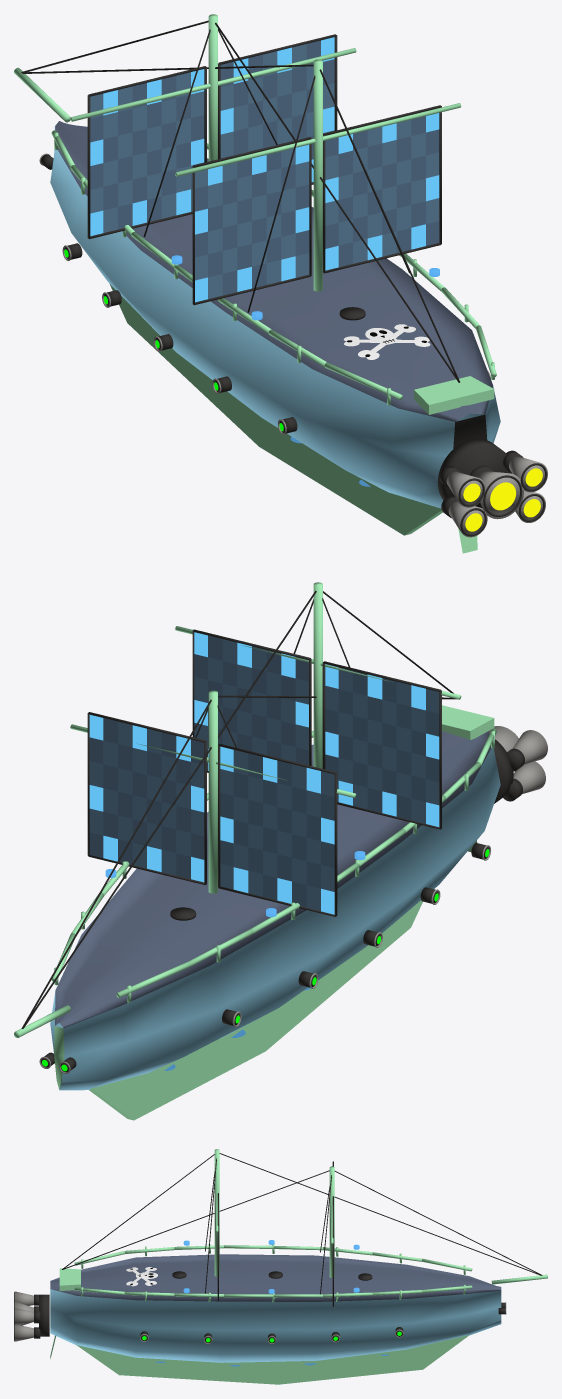
File: Ship_Pirate_6.glb
3 views of the same model, one above another, from view 1: azimuth 30°, elevation 25°; view 2: azimuth 150°, elevation 25°; view 3: azimuth 270°, elevation 25° (orthographic). The views are drawn at different scales.
Visible parts, largest first — view 1: Hull_MetalSailingShipBody, SolarPanelSail_Main_01_RigidHeritageArray, SolarPanelSail_Fore_01_RigidHeritageArray, Keel_DeepSpaceSailingKeel, Mast_Main_DarkMetalHeritageSpar, SternTransom_LowReinforcedAftDeckCap, EngineDeck_AftTransomArmoredMount, EngineEmitter, Yard_Main_01_SolarPanelCrossSpar, Yard_Fore_01_SolarPanelCrossSpar, Mast_Fore_DarkMetalHeritageSpar, EngineBell_Center_IronRocketNozzle (+4 smaller); view 2: Hull_MetalSailingShipBody, SolarPanelSail_Fore_01_RigidHeritageArray, SolarPanelSail_Main_01_RigidHeritageArray, Keel_DeepSpaceSailingKeel, Mast_Fore_DarkMetalHeritageSpar, Mast_Main_DarkMetalHeritageSpar, SternTransom_LowReinforcedAftDeckCap, RiggingStay_Main_ForwardTautLine, RiggingStay_Fore_ForwardTautLine, EngineBell_PortUpper_IronRocketNozzle, EngineBell_PortLower_IronRocketNozzle, EngineDeck_AftTransomArmoredMount; view 3: Hull_MetalSailingShipBody, Keel_DeepSpaceSailingKeel, Mast_Main_DarkMetalHeritageSpar, RiggingStay_Main_ForwardTautLine, Mast_Fore_DarkMetalHeritageSpar, SternTransom_LowReinforcedAftDeckCap, EngineDeck_AftTransomArmoredMount, RiggingStay_Fore_AftTautLine, RiggingStay_Fore_ForwardTautLine.
Part boxes in pixels (<box>): Hull_MetalSailingShipBody: <box>50,121,500,508</box>; SolarPanelSail_Main_01_RigidHeritageArray: <box>195,113,439,302</box>; SolarPanelSail_Fore_01_RigidHeritageArray: <box>90,37,334,236</box>; Keel_DeepSpaceSailingKeel: <box>109,283,442,535</box>; Mast_Main_DarkMetalHeritageSpar: <box>313,59,322,291</box>; SternTransom_LowReinforcedAftDeckCap: <box>414,376,494,414</box>; EngineDeck_AftTransomArmoredMount: <box>437,439,512,508</box>; EngineEmitter: <box>463,468,542,531</box>; Yard_Main_01_SolarPanelCrossSpar: <box>175,103,461,176</box>; Yard_Fore_01_SolarPanelCrossSpar: <box>70,48,356,121</box>; Mast_Fore_DarkMetalHeritageSpar: <box>208,14,217,161</box>; EngineBell_Center_IronRocketNozzle: <box>477,471,523,519</box>; Hull_MetalSailingShipBody: <box>50,731,500,1090</box>; SolarPanelSail_Fore_01_RigidHeritageArray: <box>89,715,334,914</box>; SolarPanelSail_Main_01_RigidHeritageArray: <box>194,632,439,826</box>; Keel_DeepSpaceSailingKeel: <box>89,900,422,1120</box>; Mast_Fore_DarkMetalHeritageSpar: <box>208,690,217,893</box>; Mast_Main_DarkMetalHeritageSpar: <box>313,582,322,768</box>; SternTransom_LowReinforcedAftDeckCap: <box>442,705,494,740</box>; RiggingStay_Main_ForwardTautLine: <box>23,590,316,1028</box>; RiggingStay_Fore_ForwardTautLine: <box>21,699,211,1028</box>; EngineBell_PortUpper_IronRocketNozzle: <box>512,730,547,764</box>; EngineBell_PortLower_IronRocketNozzle: <box>513,761,545,793</box>; EngineDeck_AftTransomArmoredMount: <box>494,739,513,803</box>; Hull_MetalSailingShipBody: <box>50,1254,501,1362</box>; Keel_DeepSpaceSailingKeel: <box>76,1335,469,1384</box>; Mast_Main_DarkMetalHeritageSpar: <box>214,1149,219,1276</box>; RiggingStay_Main_ForwardTautLine: <box>219,1153,541,1275</box>; Mast_Fore_DarkMetalHeritageSpar: <box>329,1166,334,1277</box>; SternTransom_LowReinforcedAftDeckCap: <box>59,1268,80,1290</box>; EngineDeck_AftTransomArmoredMount: <box>39,1294,49,1336</box>; RiggingStay_Fore_AftTautLine: <box>62,1170,329,1269</box>; RiggingStay_Fore_ForwardTautLine: <box>334,1171,542,1275</box>.
Size of the model in its own units: 2.52 by 3.61 by 7.49.
